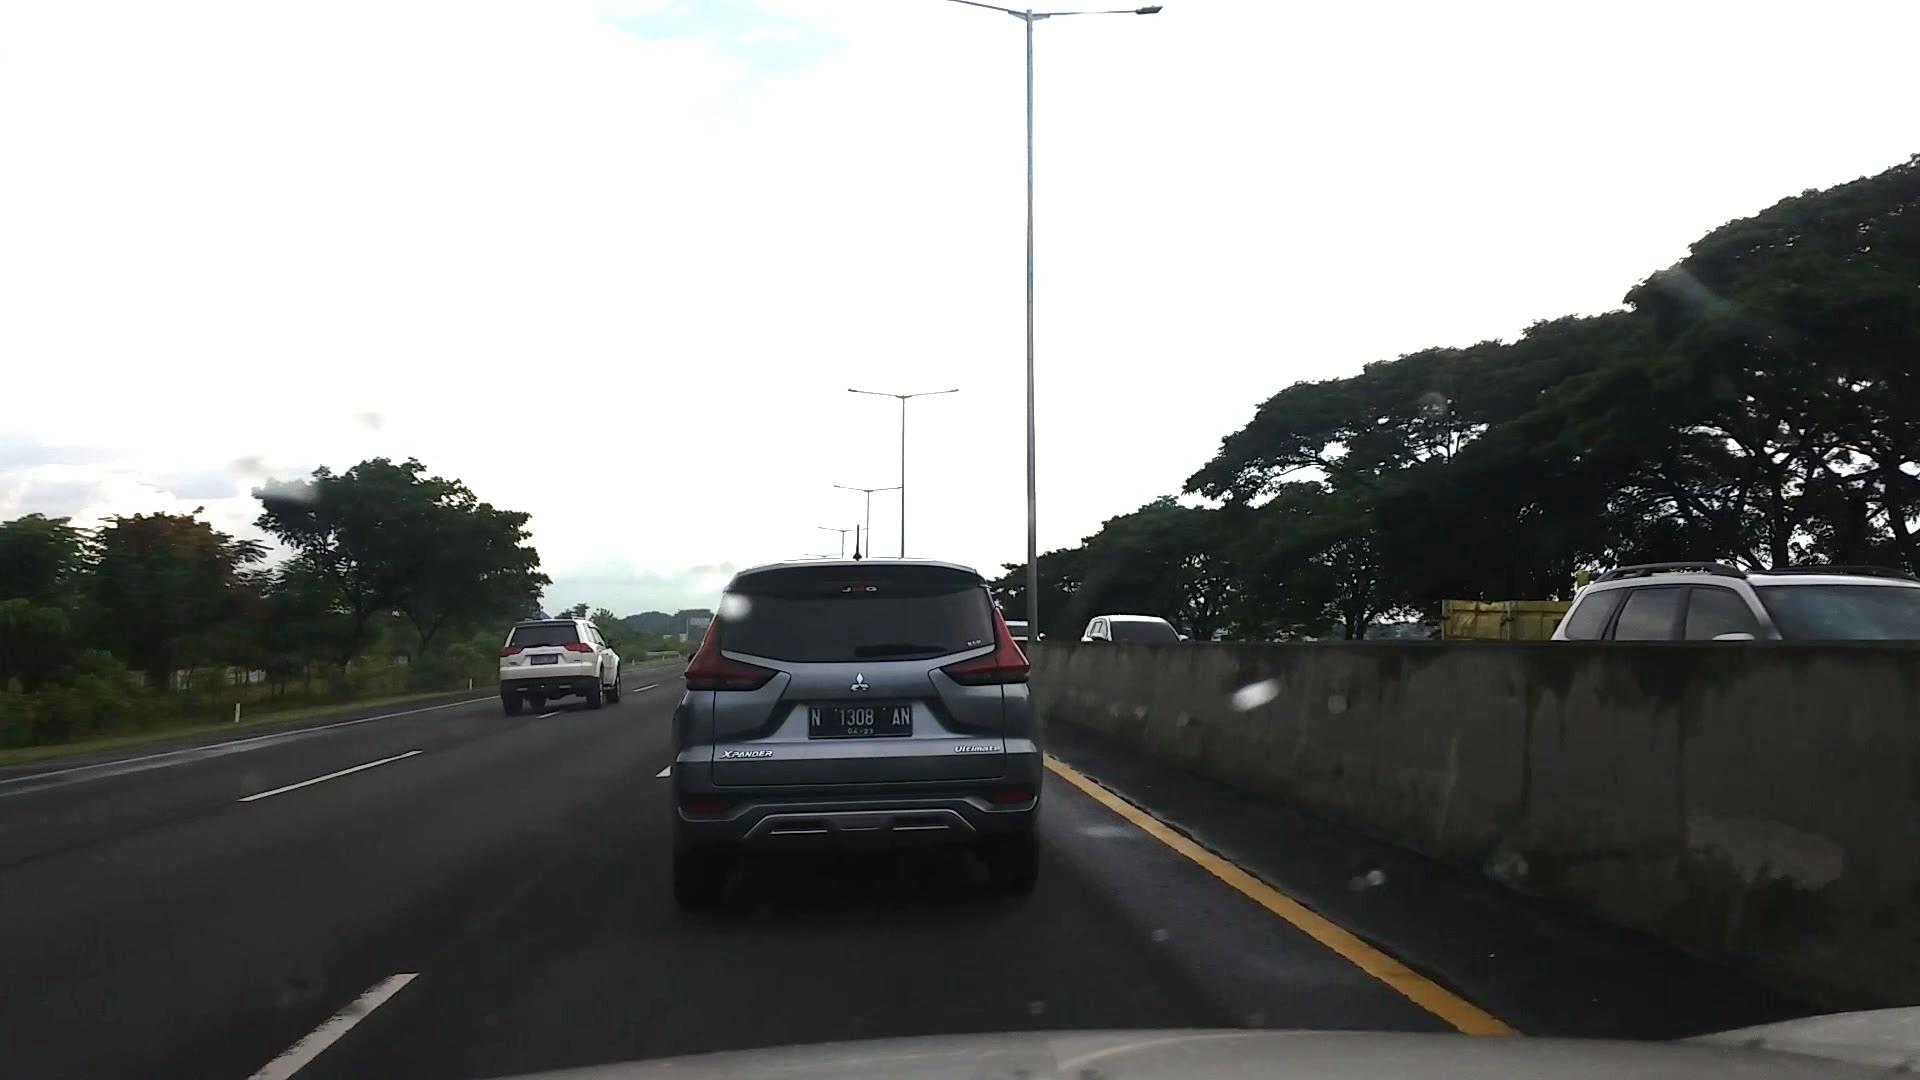plate_positive: (808, 703, 913, 738)
